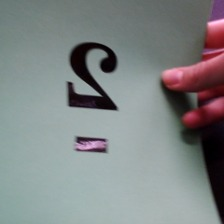green2: (60, 35, 125, 161)
